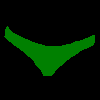mutande: (4, 25, 95, 76)
